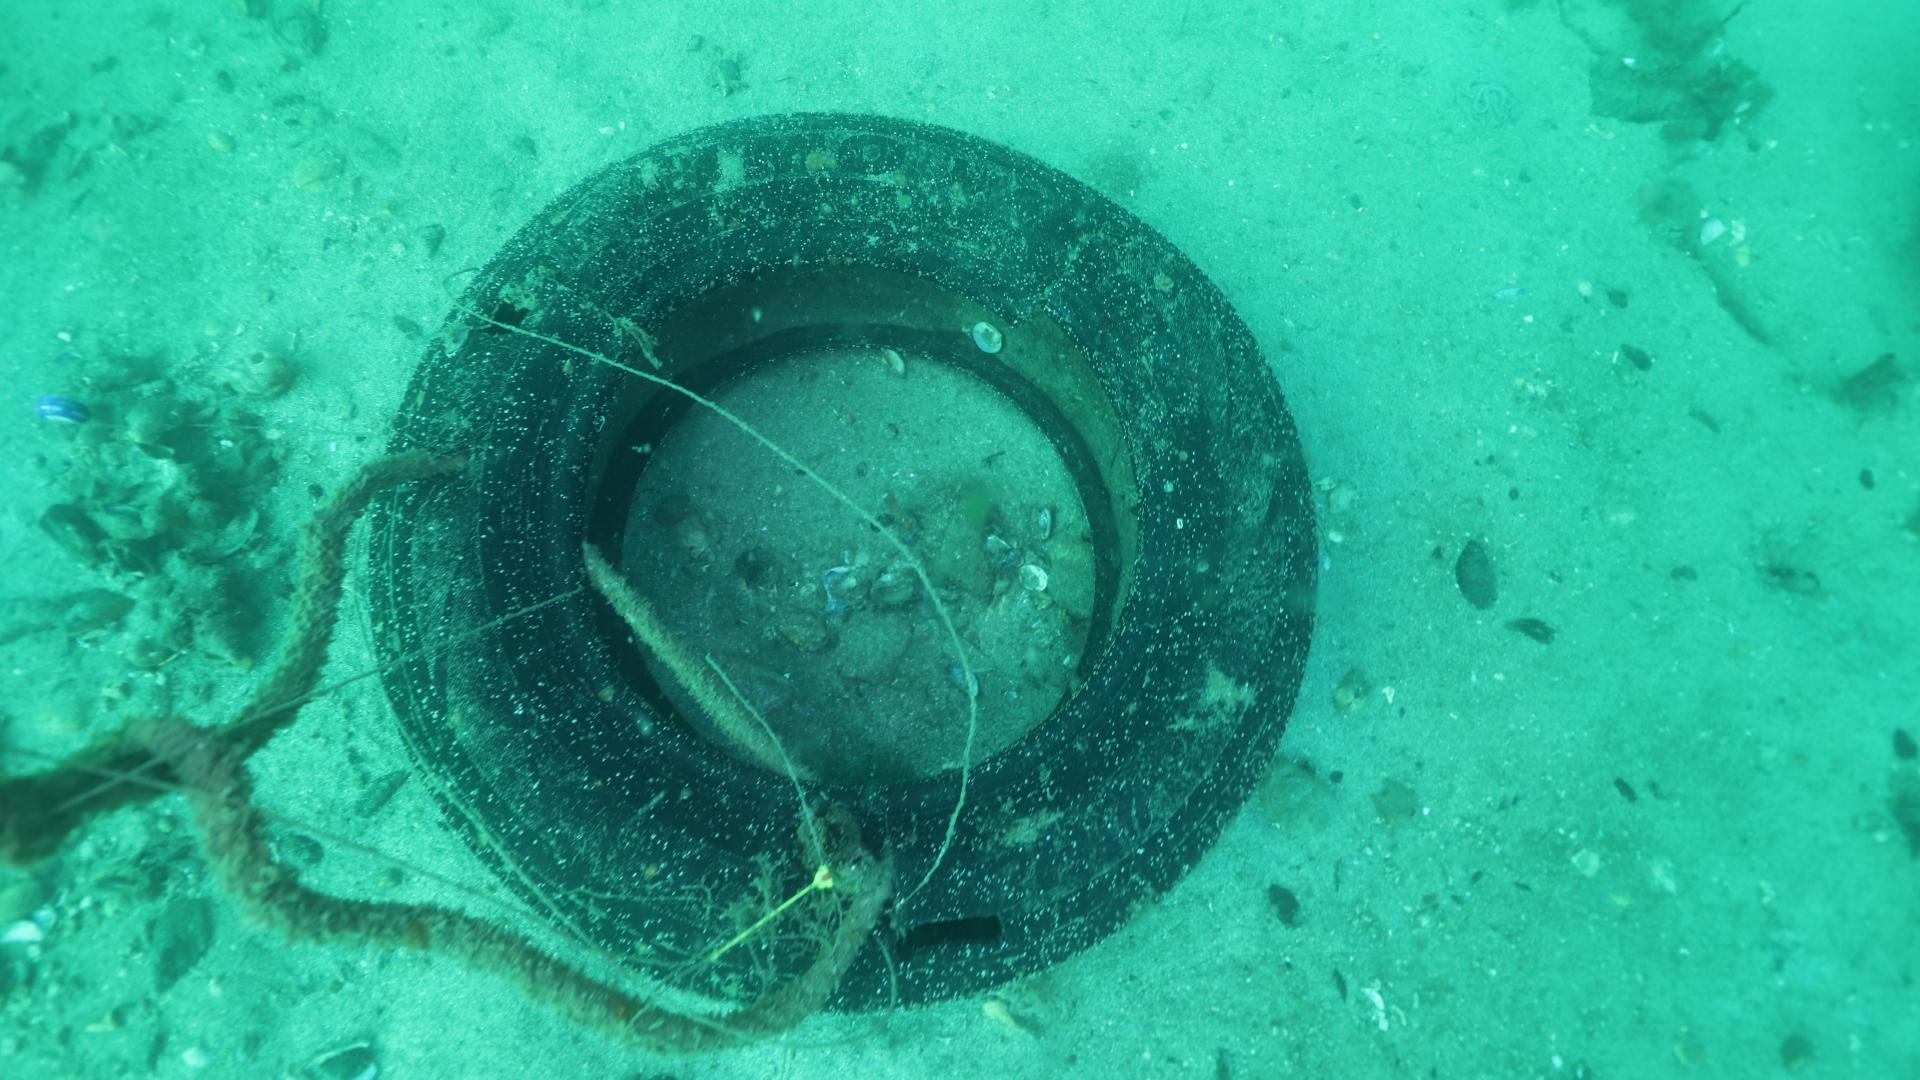bundle of ropes: (0, 448, 893, 1044)
tire: (361, 105, 1320, 1011)
